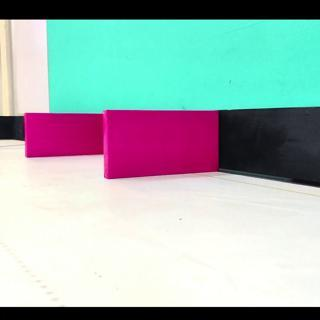xparking: (105, 111, 218, 172), (26, 114, 102, 151)
